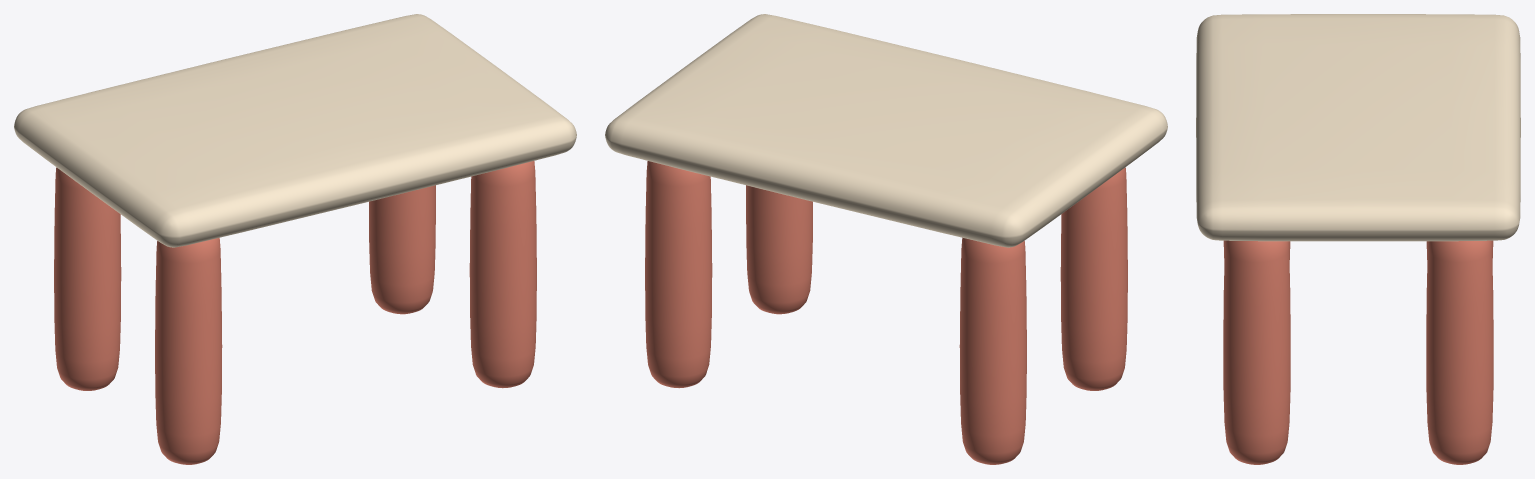
File: table_b.glb
3 renders of one model, left to right at view 1: azimuth 30°, elevation 25°; view 2: azimuth 150°, elevation 25°; view 3: azimuth 270°, elevation 25°, orthographic.
Visible parts, largest first — view 1: body; view 2: body; view 3: body.
Boxes of the visible parts, x1,y1,x2,y2 form: body: [14, 14, 576, 464]; body: [605, 14, 1167, 464]; body: [1196, 14, 1520, 464].
Bounding box in the file's own units: 1.2 × 0.75 × 0.8.
